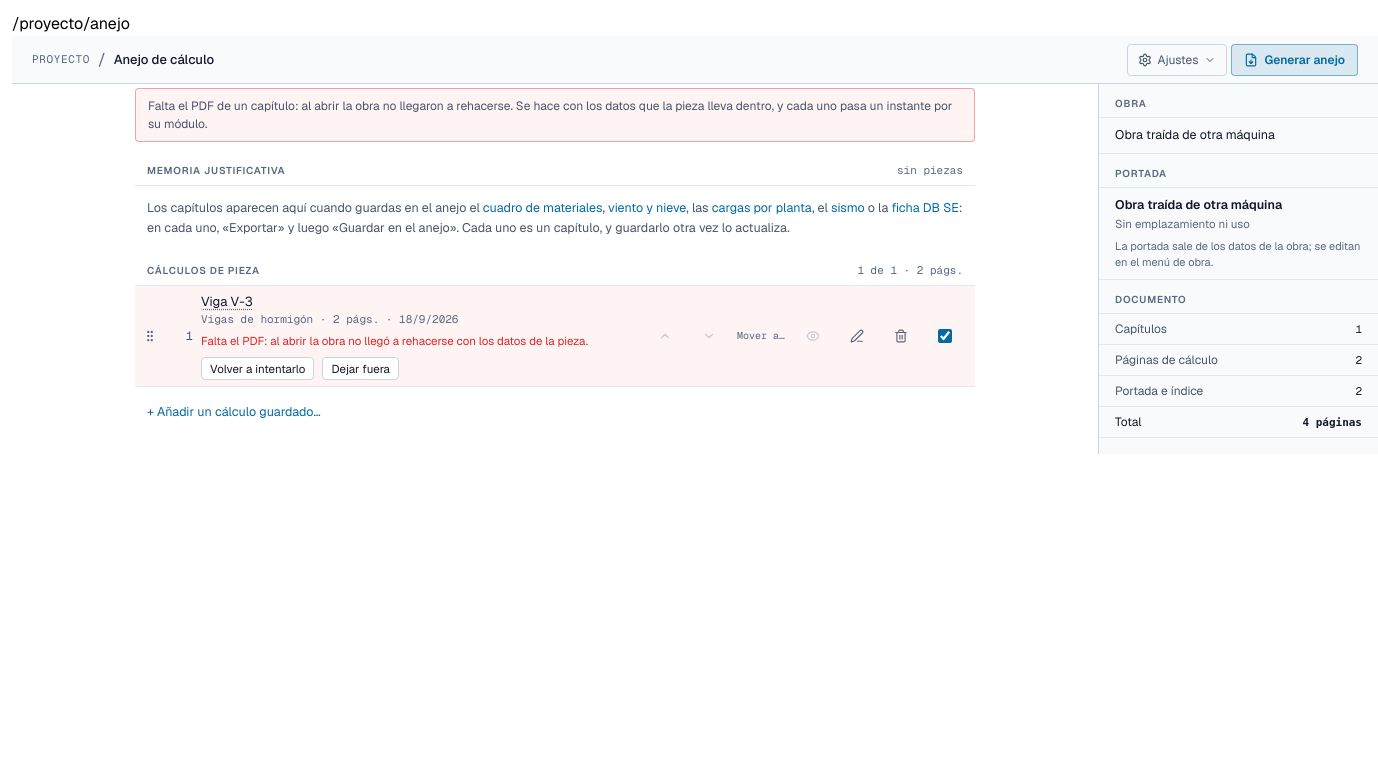
Test: rehacer el PDF de una pieza › rehace su capítulo en el sitio, sin duplicarlo, y vuelve donde estaba
This screenshot has width=1378, height=780.
Click the button "Volver a intentarlo". click: (258, 369)
box: [201, 357, 314, 380]
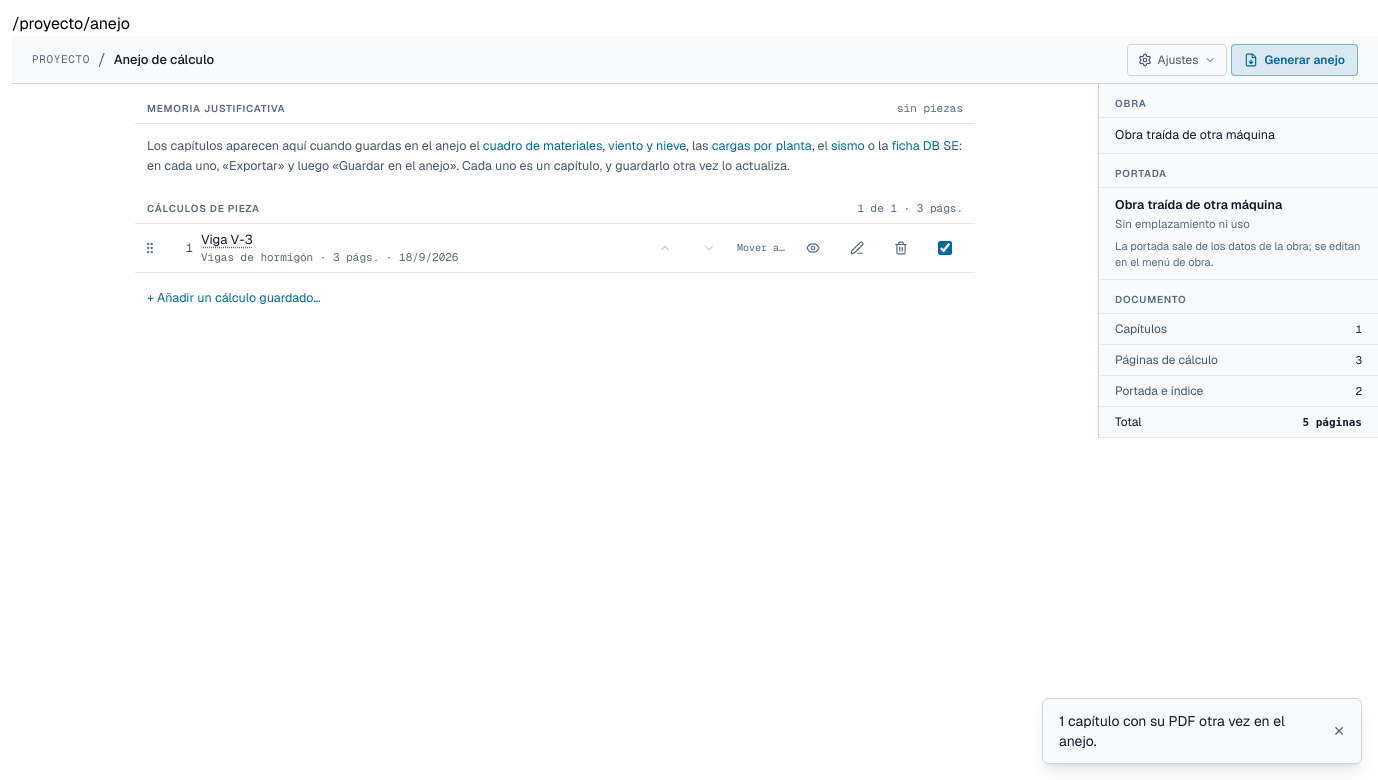
Expected: the text with test id "ruta" reads "/proyecto/anejo", [12, 13, 130, 34]
Result: the text "1 capítulo con su PDF otra vez en el anejo." is shown at [1059, 711, 1321, 751]
